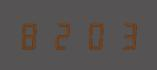eight: (18, 20, 47, 50)
three: (108, 20, 137, 50)
two: (48, 20, 77, 50)
zero: (78, 20, 107, 50)
